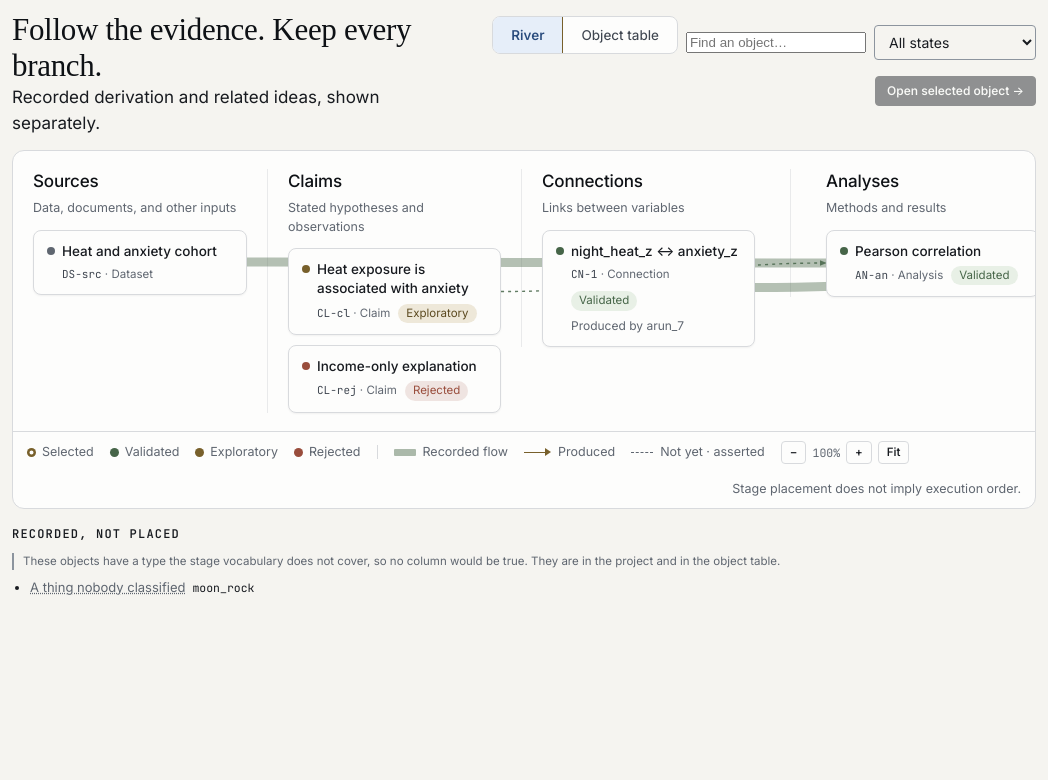
Test: the research river › says how much a filter is withholding, and keeps it in the table
This screenshot has width=1048, height=780.
Expected: the text "Pearson correlation" is shown, [855, 242, 981, 260]
Select "Validated" in the dropdown at coordinates (955, 42), box [874, 24, 1036, 60]
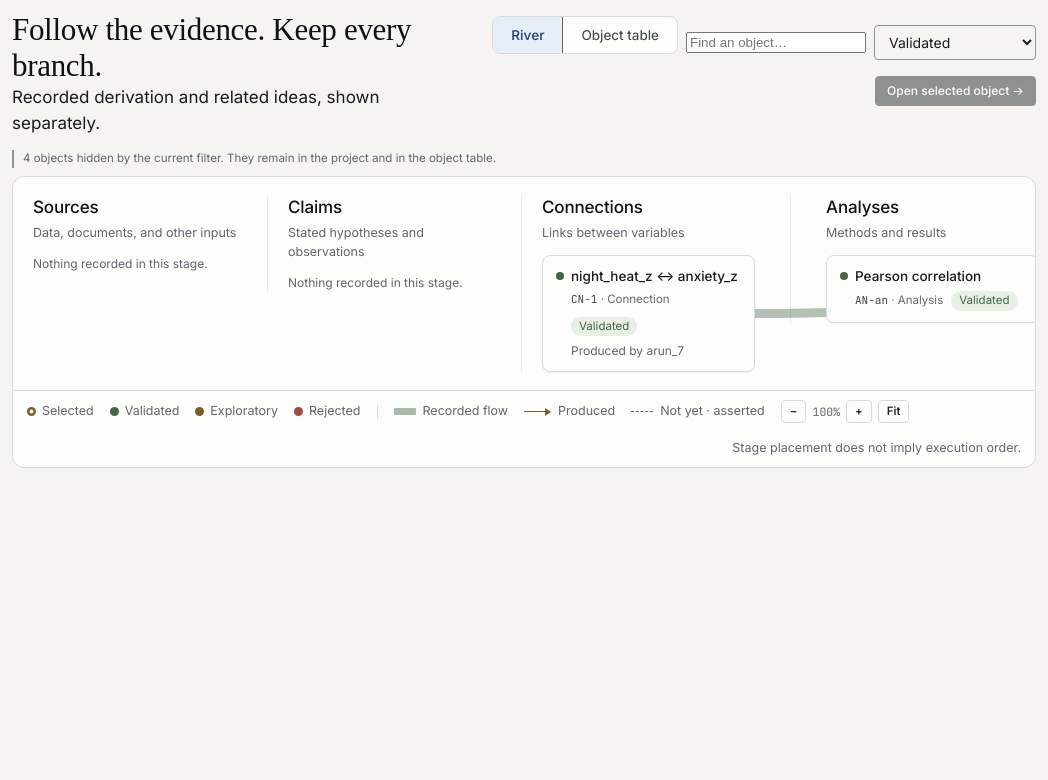
Now the button "Income-only explanation" is gone
Now the text "hidden by the current filter" is shown, box [73, 151, 496, 165]
// The object table still lists every object in the project.
Click the tab "Object table".
click(620, 35)  # box [563, 17, 677, 53]
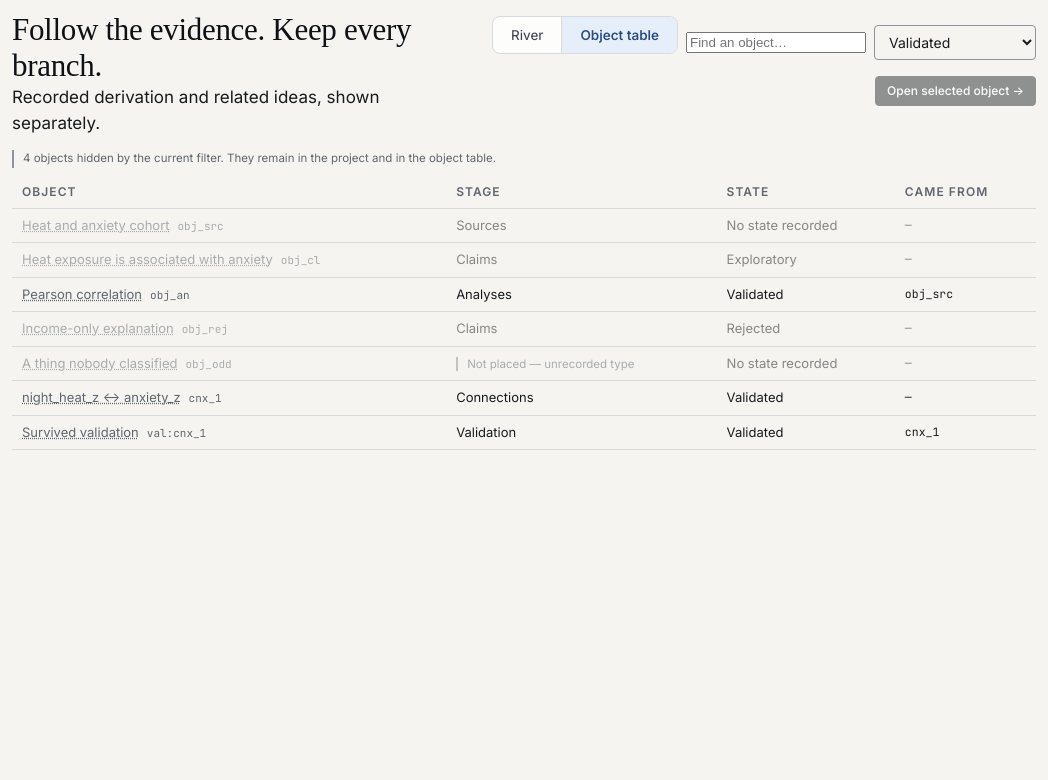
Now the table is shown, box [12, 176, 1036, 450]
Now the button "Income-only explanation" is shown, box [22, 319, 174, 338]
Now the button "Heat and anxiety cohort" is shown, box [22, 216, 170, 235]
